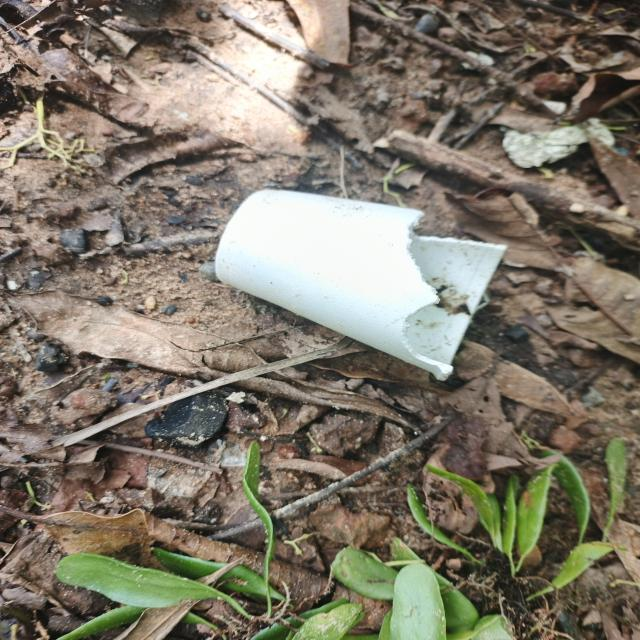plastic: (209, 176, 530, 396)
